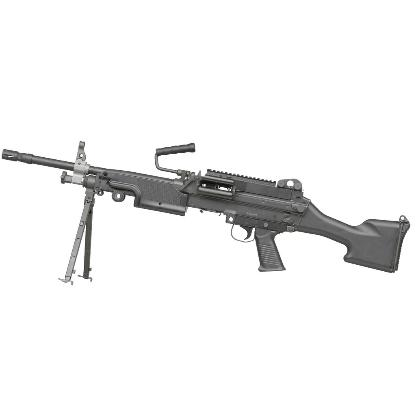gun: (1, 139, 409, 283)
